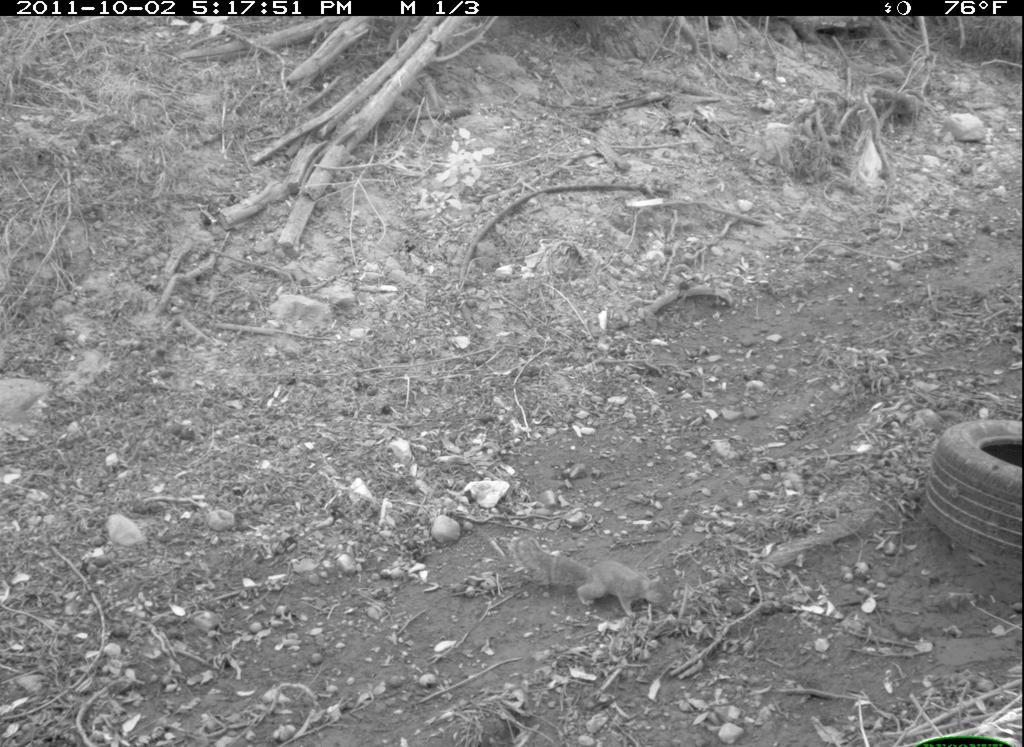squirrel: (509, 530, 681, 628)
